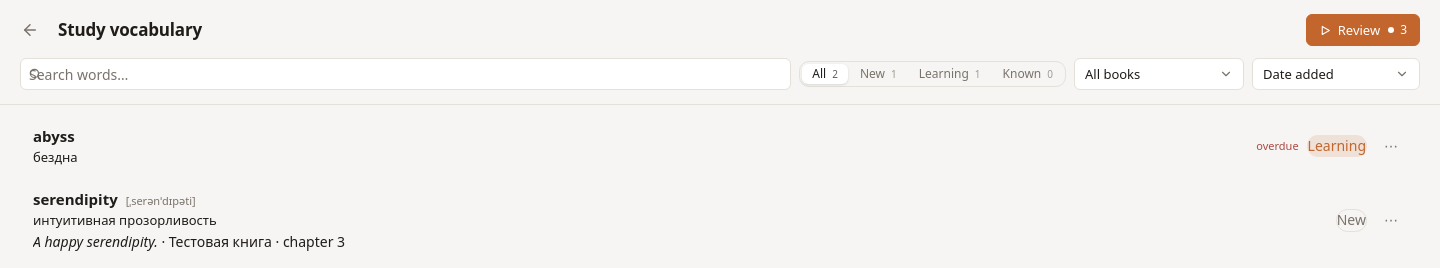
VocabView › status filter reloads the list through the store filter
Check: the text "serendipity" is shown, box left=33, top=189, right=118, bottom=210
Click the tab "Learning 1". click: [950, 74]
box: left=909, top=64, right=991, bottom=84
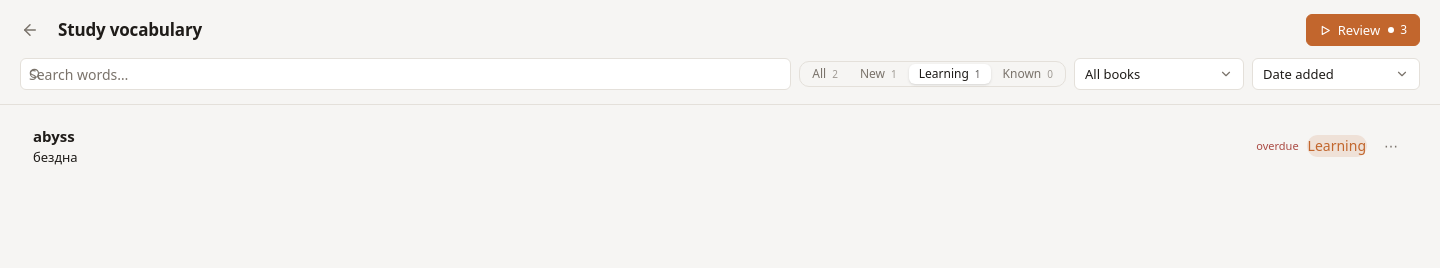
Check: the text "abyss" is shown, box left=33, top=126, right=75, bottom=148
Check: the text "serendipity" is gone
